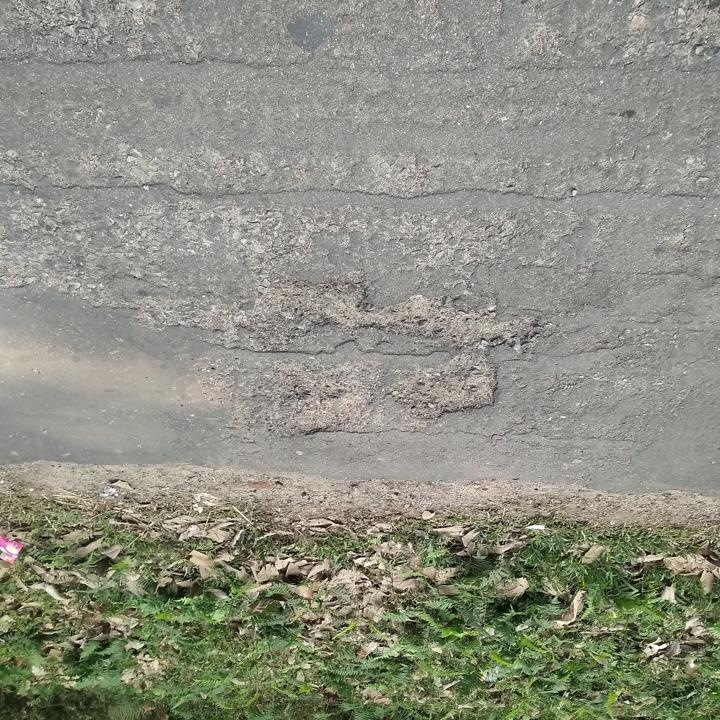pothole: (233, 274, 548, 442)
